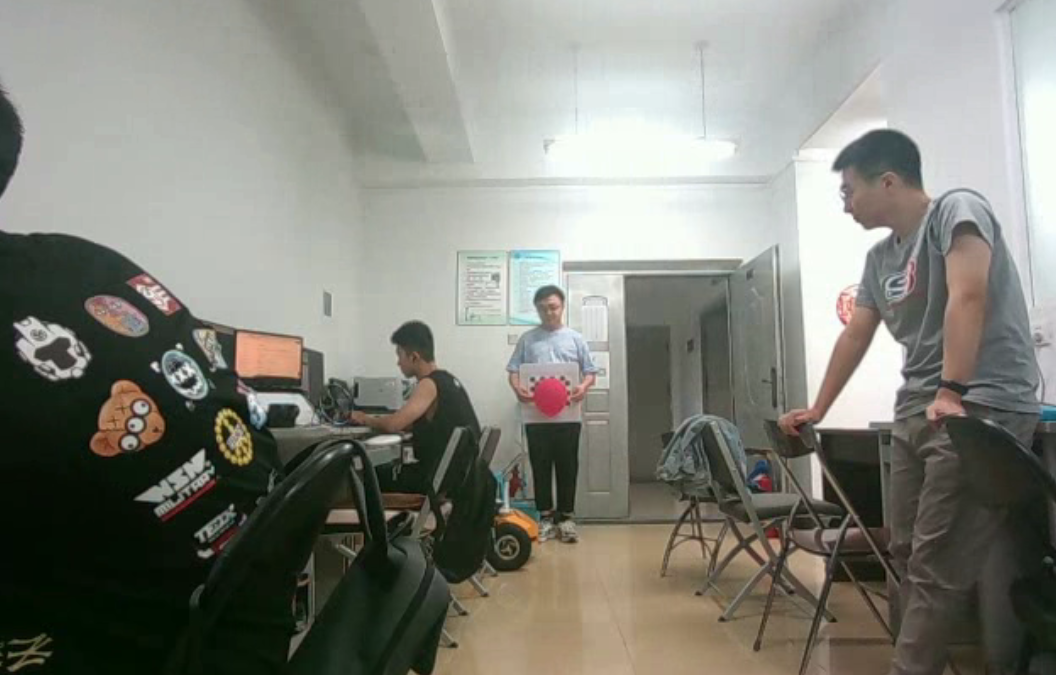balloon: (532, 375, 569, 419)
